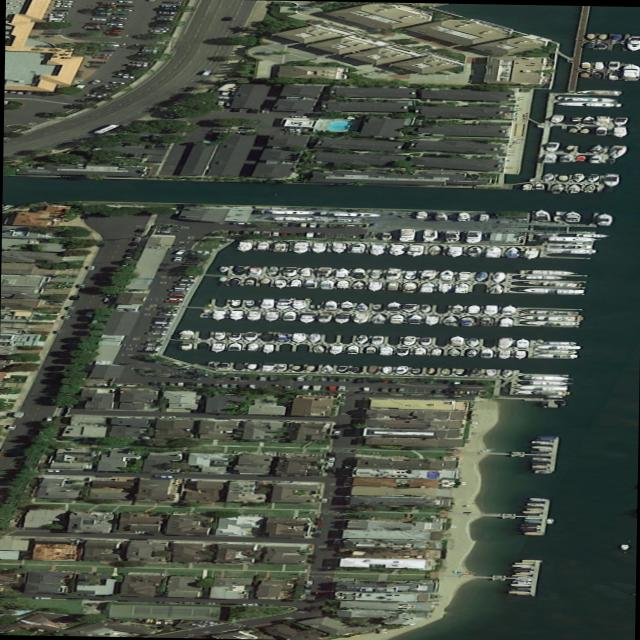large-vehicle: (91, 123, 121, 133)
ship: (523, 279, 583, 286), (518, 286, 584, 292), (556, 95, 620, 101), (320, 210, 384, 216), (556, 100, 619, 106), (521, 308, 579, 314), (518, 314, 585, 319), (526, 268, 579, 274), (621, 63, 640, 78), (522, 319, 579, 324), (515, 389, 571, 394), (520, 379, 575, 384), (548, 235, 602, 240), (263, 208, 317, 213), (521, 374, 575, 379), (543, 247, 596, 252), (515, 384, 568, 389), (608, 144, 627, 157), (575, 88, 624, 93), (522, 246, 542, 258), (443, 229, 463, 241), (519, 273, 566, 278), (546, 242, 592, 247), (406, 244, 426, 255), (422, 228, 440, 240), (418, 268, 437, 279), (388, 243, 407, 254), (399, 227, 415, 240), (237, 238, 254, 250), (293, 240, 310, 252), (447, 244, 464, 256), (565, 209, 582, 221), (603, 174, 620, 186), (369, 243, 387, 254), (352, 311, 370, 322), (316, 311, 334, 322), (484, 245, 502, 256), (465, 230, 483, 241), (402, 280, 418, 292), (597, 212, 613, 224), (535, 344, 582, 348), (311, 241, 328, 252), (299, 311, 316, 322), (438, 268, 455, 279), (386, 299, 403, 310), (497, 336, 514, 347), (442, 313, 459, 324), (627, 35, 640, 49), (246, 309, 264, 319), (505, 245, 520, 257), (536, 208, 551, 220), (370, 312, 388, 322), (500, 303, 518, 313), (331, 241, 347, 252), (334, 311, 350, 322), (454, 281, 470, 292), (534, 352, 578, 356), (367, 280, 384, 290), (275, 298, 292, 308), (259, 297, 276, 307), (264, 310, 281, 320), (210, 309, 227, 319), (488, 282, 505, 292), (456, 270, 473, 280), (179, 328, 196, 338), (210, 341, 227, 351), (536, 348, 578, 352), (319, 277, 334, 288), (491, 270, 506, 281), (427, 243, 442, 254), (316, 266, 332, 276), (273, 240, 289, 250), (386, 268, 402, 278), (474, 270, 490, 280), (437, 281, 453, 291), (272, 215, 312, 219), (407, 313, 423, 323), (612, 116, 629, 125), (544, 141, 561, 150), (483, 304, 500, 313), (423, 315, 440, 324), (283, 265, 298, 275), (351, 241, 366, 251), (420, 281, 435, 291), (340, 299, 355, 309), (291, 298, 306, 308), (282, 309, 297, 319), (613, 126, 628, 136), (590, 143, 605, 153), (467, 245, 482, 255), (389, 312, 404, 322), (566, 182, 581, 192), (433, 210, 449, 219), (479, 347, 495, 356), (466, 303, 482, 312), (479, 315, 495, 324), (402, 302, 418, 311), (227, 341, 243, 350), (328, 344, 344, 353), (550, 182, 566, 191), (369, 268, 383, 278), (352, 266, 366, 276), (303, 277, 317, 287), (230, 309, 244, 319), (576, 232, 611, 236), (457, 210, 471, 220), (451, 334, 465, 344), (451, 302, 465, 312), (461, 315, 475, 325), (403, 334, 417, 344), (404, 269, 419, 278), (588, 153, 603, 162), (312, 217, 357, 220), (395, 364, 410, 373), (179, 340, 194, 349), (292, 332, 307, 341), (379, 345, 394, 354), (335, 266, 348, 276), (350, 279, 366, 287), (243, 332, 259, 340), (300, 266, 314, 275), (266, 265, 280, 274), (248, 266, 262, 275), (466, 337, 480, 346), (499, 316, 513, 325), (419, 303, 433, 312), (228, 331, 242, 340), (262, 361, 276, 370), (308, 332, 322, 341), (550, 113, 565, 121), (464, 347, 479, 355), (396, 346, 411, 354), (277, 331, 289, 341), (337, 278, 350, 287), (356, 301, 369, 310), (582, 114, 595, 123), (544, 152, 557, 161), (448, 346, 461, 355), (498, 348, 511, 357), (516, 337, 529, 346), (596, 115, 610, 123), (246, 341, 260, 349), (312, 343, 326, 351), (346, 344, 360, 352), (583, 182, 597, 190), (275, 278, 287, 287), (325, 299, 337, 308), (608, 60, 620, 69), (595, 125, 607, 134), (573, 172, 585, 181), (559, 153, 574, 160), (543, 340, 578, 343), (387, 280, 400, 288), (257, 240, 270, 248), (381, 231, 394, 239), (371, 335, 384, 343), (214, 330, 225, 339), (263, 343, 274, 352), (358, 334, 369, 343), (415, 210, 429, 217), (587, 173, 599, 181), (542, 172, 554, 180), (469, 367, 481, 375), (367, 364, 379, 372), (431, 346, 443, 354), (514, 349, 526, 357), (419, 336, 431, 344), (289, 278, 302, 285), (485, 368, 498, 375), (414, 346, 427, 353), (321, 363, 334, 370), (530, 449, 552, 453), (501, 368, 512, 376), (277, 362, 288, 370), (529, 496, 550, 500), (595, 60, 605, 68), (217, 265, 230, 271), (229, 277, 242, 283), (534, 232, 560, 235), (555, 398, 568, 404), (565, 240, 591, 243), (478, 213, 489, 220), (233, 361, 244, 368), (259, 276, 271, 282), (522, 182, 534, 188), (231, 298, 241, 305), (382, 365, 392, 372), (366, 345, 376, 352), (512, 563, 535, 566), (521, 558, 544, 561), (576, 154, 587, 160), (537, 435, 559, 438), (509, 589, 531, 592), (510, 582, 532, 585), (511, 573, 533, 576), (524, 531, 546, 534), (247, 362, 258, 368), (219, 361, 230, 367), (619, 543, 630, 549), (551, 214, 562, 220), (609, 71, 618, 78), (531, 456, 552, 459), (521, 523, 542, 526), (530, 445, 551, 448), (245, 278, 255, 284), (235, 265, 245, 271), (597, 42, 607, 48), (534, 469, 554, 472), (531, 464, 551, 467), (540, 400, 550, 406), (455, 367, 465, 373), (338, 364, 348, 370), (306, 364, 316, 370), (535, 182, 545, 188), (531, 466, 550, 469), (198, 311, 209, 316), (606, 157, 617, 162), (582, 61, 591, 67), (613, 33, 622, 39), (524, 518, 542, 521), (515, 571, 533, 574), (351, 365, 360, 371), (622, 77, 639, 80), (580, 127, 590, 132), (558, 174, 568, 179), (291, 364, 301, 369), (587, 32, 595, 38), (531, 440, 555, 442), (442, 367, 450, 373), (246, 299, 255, 304), (581, 71, 590, 76), (586, 42, 595, 47), (373, 303, 382, 308), (546, 517, 555, 522), (565, 144, 576, 148), (522, 510, 544, 512), (554, 210, 565, 214), (520, 526, 541, 528), (593, 71, 601, 76), (599, 33, 607, 38), (513, 580, 533, 582), (514, 568, 534, 570), (515, 561, 535, 563), (567, 127, 577, 131), (570, 116, 580, 120), (526, 502, 545, 504), (532, 462, 551, 464), (535, 438, 554, 440), (522, 528, 541, 530), (525, 516, 543, 518), (525, 512, 543, 514), (526, 507, 544, 509), (546, 394, 564, 396), (515, 578, 533, 580), (516, 566, 534, 568), (208, 360, 217, 364), (534, 443, 552, 445), (413, 367, 420, 372)
small-vehicle: (11, 410, 25, 417), (162, 113, 182, 117), (127, 240, 143, 245), (358, 71, 377, 75), (121, 252, 136, 257), (186, 368, 204, 372), (185, 375, 203, 379), (145, 368, 163, 372), (311, 383, 323, 389), (89, 78, 103, 83), (200, 69, 214, 74), (125, 62, 148, 65), (100, 85, 117, 89), (189, 622, 206, 626), (114, 74, 136, 77), (222, 15, 235, 20), (259, 107, 272, 112), (285, 221, 298, 226), (4, 423, 17, 428), (131, 235, 144, 240), (177, 365, 193, 369), (83, 93, 104, 96), (74, 98, 95, 101), (153, 474, 174, 477), (166, 288, 187, 291), (189, 249, 210, 252), (151, 318, 172, 321), (130, 60, 150, 63), (282, 131, 302, 134), (281, 598, 301, 601), (305, 230, 315, 236), (69, 294, 81, 299), (194, 621, 214, 624), (40, 468, 60, 471), (166, 292, 186, 295), (173, 284, 193, 287), (174, 248, 186, 253), (133, 227, 145, 232), (299, 384, 311, 389), (151, 322, 171, 325), (90, 55, 109, 58), (124, 66, 143, 69), (139, 50, 158, 53), (215, 96, 234, 99), (90, 89, 109, 92), (50, 10, 69, 13), (273, 479, 292, 482), (168, 290, 187, 293), (171, 286, 190, 289), (153, 320, 172, 323), (147, 331, 166, 334), (308, 553, 319, 558), (125, 247, 136, 252), (90, 91, 108, 94), (110, 80, 128, 83), (117, 72, 135, 75), (140, 48, 158, 51), (290, 114, 308, 117), (284, 127, 302, 130), (130, 537, 148, 540), (194, 372, 212, 375), (151, 20, 169, 23), (54, 1, 72, 4), (46, 16, 64, 19), (48, 14, 66, 17), (48, 12, 66, 15), (157, 12, 175, 15), (157, 10, 175, 13), (98, 0, 116, 3), (159, 414, 177, 417), (215, 416, 233, 419), (44, 301, 62, 304), (87, 597, 105, 600), (182, 260, 200, 263), (153, 231, 171, 234), (155, 227, 173, 230), (138, 349, 156, 352), (143, 345, 161, 348), (229, 107, 242, 111), (154, 18, 171, 21), (89, 59, 106, 62), (142, 45, 159, 48), (107, 26, 124, 29), (212, 127, 229, 130), (151, 22, 168, 25), (110, 15, 127, 18), (178, 600, 195, 603), (215, 99, 225, 104), (97, 241, 107, 246), (326, 455, 336, 460), (326, 451, 336, 456), (333, 538, 343, 543), (83, 310, 93, 315), (90, 319, 100, 324), (102, 296, 112, 301), (313, 526, 323, 531), (240, 229, 250, 234), (269, 374, 279, 379), (326, 384, 336, 389), (76, 282, 86, 287), (40, 31, 56, 34), (161, 3, 177, 6), (203, 620, 219, 623), (66, 596, 82, 599), (296, 374, 304, 380), (143, 347, 159, 350), (145, 342, 161, 345), (309, 221, 318, 226), (317, 222, 326, 227), (153, 144, 168, 147), (117, 5, 132, 8), (343, 481, 352, 486), (194, 381, 203, 386), (45, 416, 54, 421), (398, 386, 407, 391), (258, 374, 267, 379), (337, 384, 346, 389), (337, 375, 346, 380), (389, 386, 398, 391), (426, 377, 435, 382), (8, 88, 19, 92), (324, 461, 335, 465), (202, 382, 213, 386), (311, 532, 322, 536), (172, 256, 183, 260), (231, 221, 253, 223), (303, 374, 314, 378), (86, 264, 97, 268), (163, 0, 184, 2), (184, 258, 205, 260), (152, 316, 173, 318), (24, 89, 34, 93), (125, 152, 135, 156), (332, 423, 340, 428), (323, 467, 333, 471), (344, 464, 352, 469), (53, 329, 63, 333), (60, 314, 70, 318), (303, 584, 313, 588), (162, 299, 182, 301), (157, 312, 177, 314), (433, 388, 443, 392), (83, 64, 102, 66), (237, 130, 256, 132), (215, 95, 234, 97), (283, 129, 302, 131), (156, 15, 175, 17), (47, 19, 66, 21), (151, 27, 170, 29), (44, 299, 63, 301), (158, 310, 177, 312), (175, 280, 194, 282), (155, 229, 174, 231), (93, 9, 111, 11), (97, 48, 115, 50), (125, 65, 143, 67), (15, 89, 24, 93), (84, 25, 102, 27), (327, 225, 345, 227), (299, 221, 308, 225), (221, 90, 230, 94), (84, 23, 102, 25), (280, 221, 289, 225), (354, 377, 363, 381), (106, 22, 124, 24), (92, 13, 110, 15), (156, 17, 174, 19), (94, 7, 112, 9), (247, 383, 256, 387), (332, 429, 341, 433), (66, 305, 75, 309), (175, 381, 184, 385), (211, 382, 220, 386), (221, 602, 239, 604), (262, 603, 280, 605), (34, 596, 52, 598), (304, 579, 313, 583), (229, 383, 238, 387), (178, 278, 196, 280), (156, 225, 174, 227), (227, 229, 236, 233), (282, 384, 291, 388), (319, 375, 328, 379), (149, 329, 167, 331), (150, 325, 168, 327), (85, 21, 102, 23), (102, 32, 119, 34), (85, 27, 102, 29), (239, 128, 256, 130), (239, 126, 256, 128), (90, 17, 107, 19), (107, 24, 124, 26), (95, 474, 112, 476), (108, 469, 125, 471), (107, 20, 124, 22), (150, 29, 167, 31), (117, 4, 134, 6), (118, 0, 135, 2), (157, 600, 174, 602), (199, 601, 216, 603), (242, 602, 259, 604), (0, 595, 17, 597), (166, 297, 183, 299), (181, 262, 198, 264), (151, 327, 168, 329), (137, 52, 153, 54), (145, 160, 161, 162), (225, 101, 233, 105), (93, 469, 109, 471), (233, 374, 241, 378), (54, 4, 70, 6), (53, 8, 69, 10), (108, 18, 124, 20), (161, 6, 177, 8), (112, 12, 128, 14), (94, 11, 110, 13), (271, 230, 279, 234), (149, 380, 157, 384), (184, 381, 192, 385), (220, 382, 228, 386), (303, 588, 311, 592), (117, 599, 133, 601), (315, 520, 323, 524), (320, 497, 328, 501), (380, 386, 388, 390), (363, 386, 371, 390), (104, 30, 119, 32), (106, 28, 121, 30), (156, 143, 171, 145), (212, 129, 227, 131), (289, 125, 304, 127), (117, 8, 132, 10), (99, 3, 114, 5), (176, 282, 191, 284), (166, 381, 175, 384), (332, 434, 340, 437), (158, 381, 166, 384), (317, 517, 325, 520), (151, 25, 169, 26), (309, 559, 315, 562), (56, 0, 73, 1), (168, 295, 185, 296), (95, 53, 111, 54)
